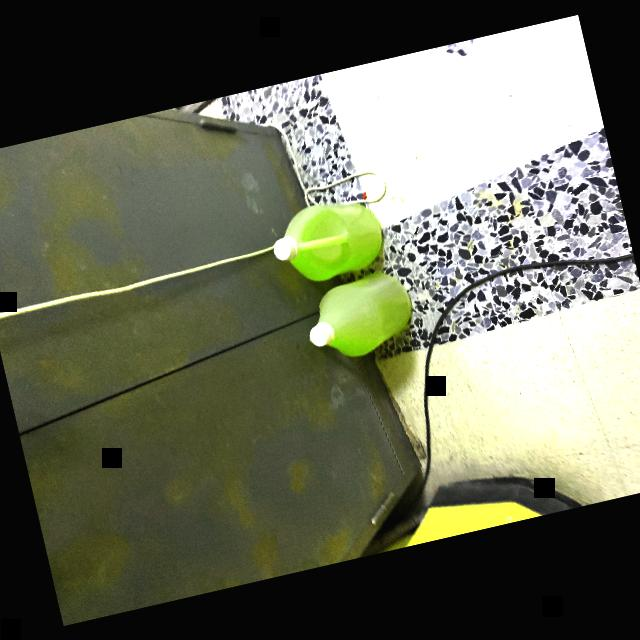chemical_plastic_gallon: (290, 268, 422, 370), (259, 188, 390, 288)
